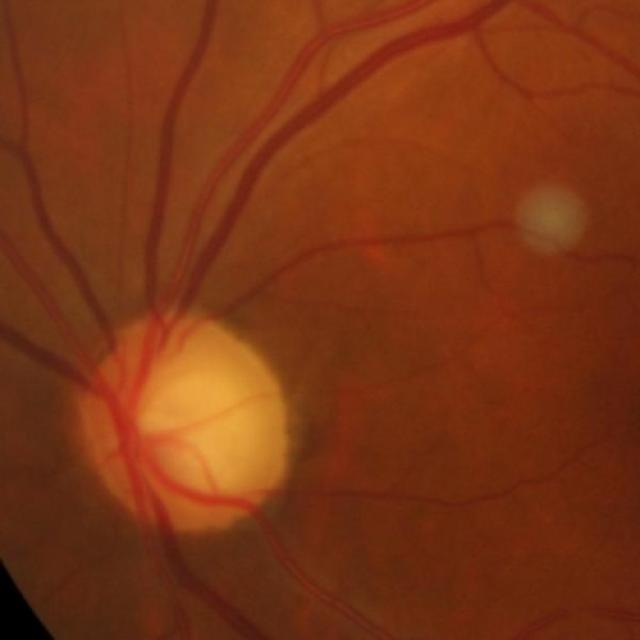OC: (158, 359, 275, 512)
OD: (95, 315, 286, 528)
